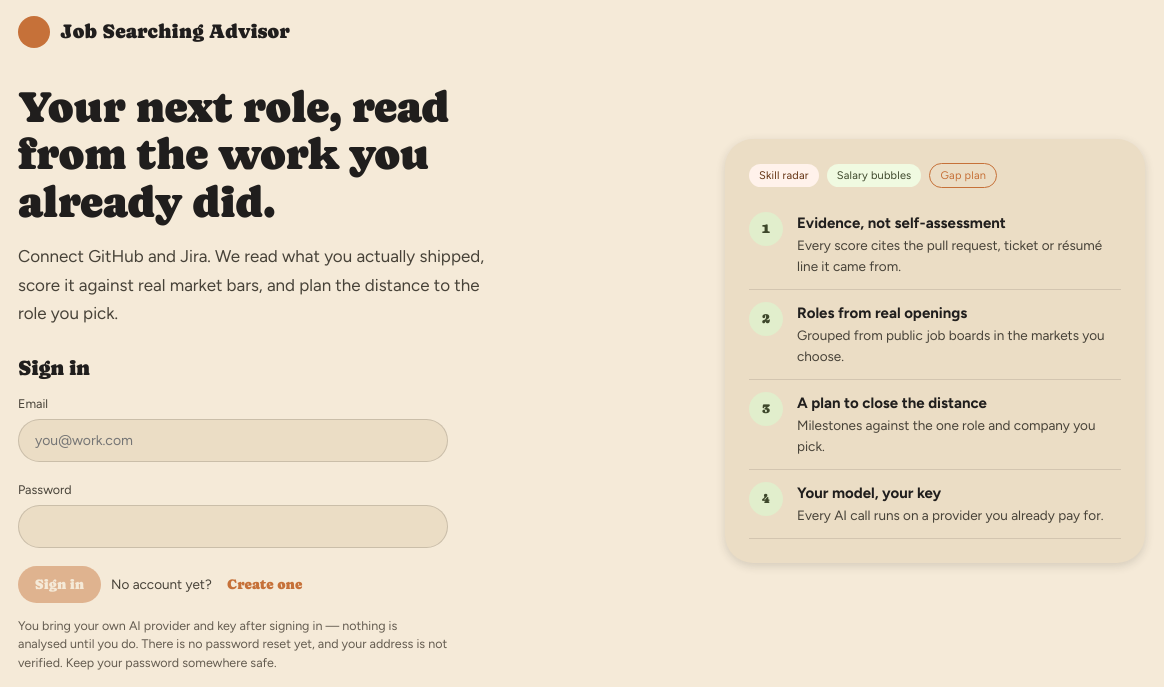
Test case: sign-in screen › keeps submit disabled until both fields have something in them
Expected: the button "Sign in" is disabled, [18,566,101,603]
In the field labelled "Email": {"x": 233, "y": 440} [18,418,448,462], type "maya@example.com"
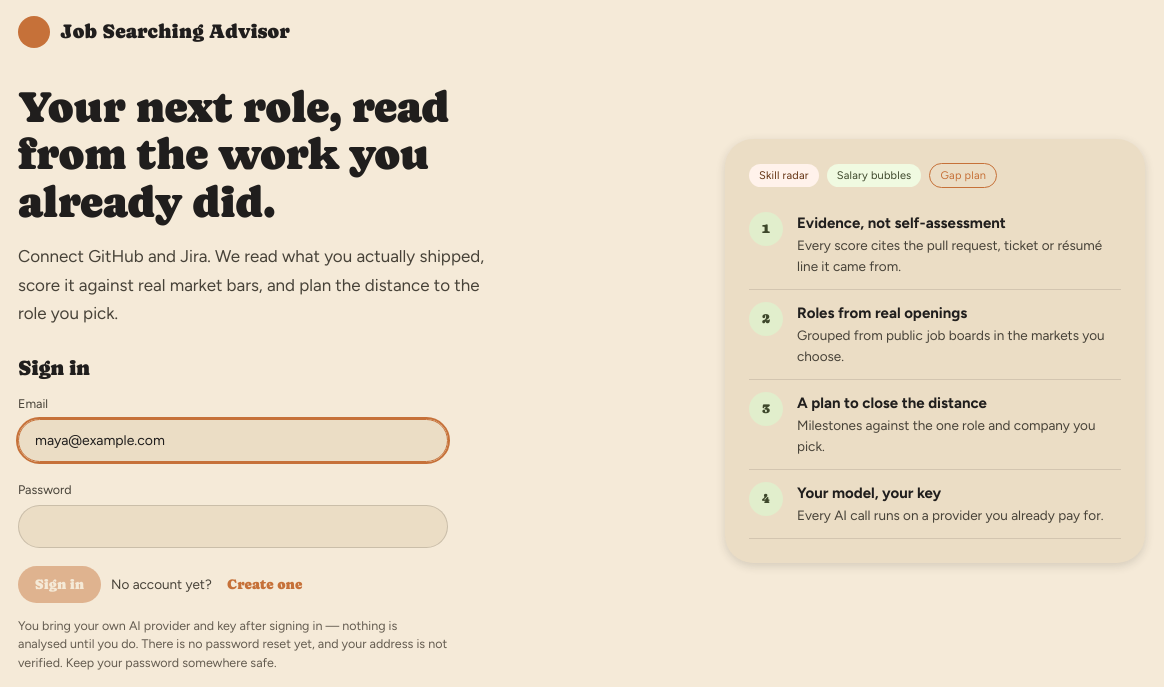
Expected: the button "Sign in" is disabled, [18,566,101,603]
In the password field labelled "Password": {"x": 233, "y": 526} [18,505,448,548], type "a perfectly fine passphrase"
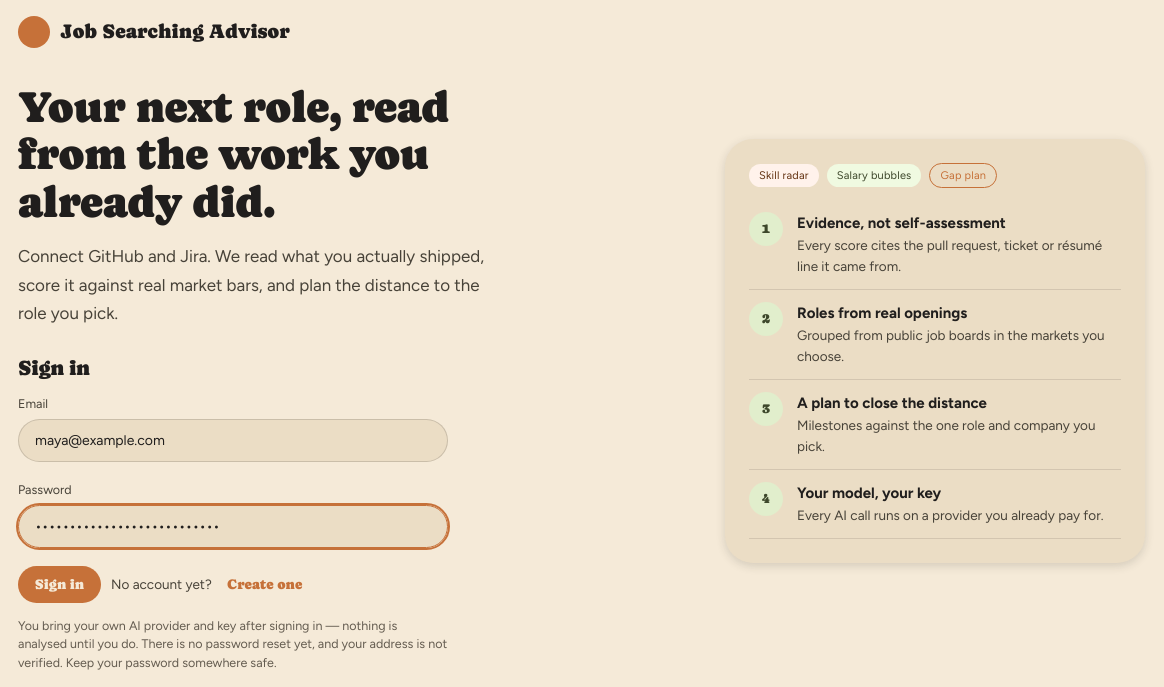
Expected: the button "Sign in" is enabled, [18,566,101,603]
